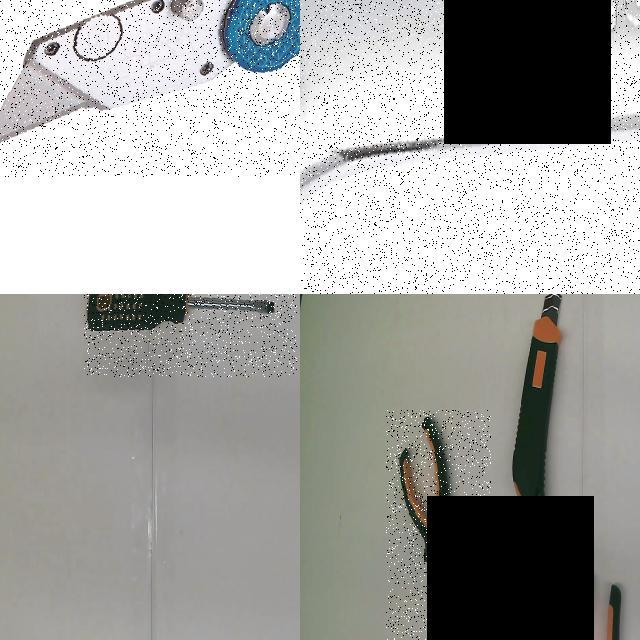estilete: (512, 295, 561, 495)
